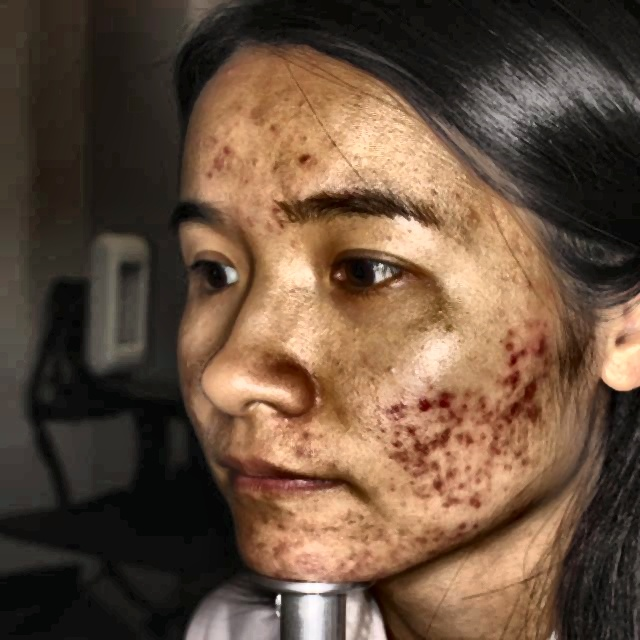papule: (410, 518, 454, 552), (404, 465, 451, 495), (407, 434, 442, 466), (505, 342, 536, 378), (461, 386, 498, 416), (462, 479, 500, 508), (286, 143, 317, 178), (197, 133, 237, 160), (203, 146, 226, 192), (486, 333, 524, 357), (383, 398, 412, 428), (475, 416, 506, 444), (509, 439, 538, 468), (432, 378, 459, 409), (393, 419, 426, 444), (450, 519, 480, 542), (514, 392, 536, 422), (453, 425, 478, 451), (267, 533, 292, 559), (516, 374, 544, 397), (421, 419, 446, 444), (431, 492, 462, 512), (402, 390, 426, 414), (488, 401, 514, 421), (386, 437, 406, 459), (496, 435, 510, 462), (500, 371, 516, 390)
